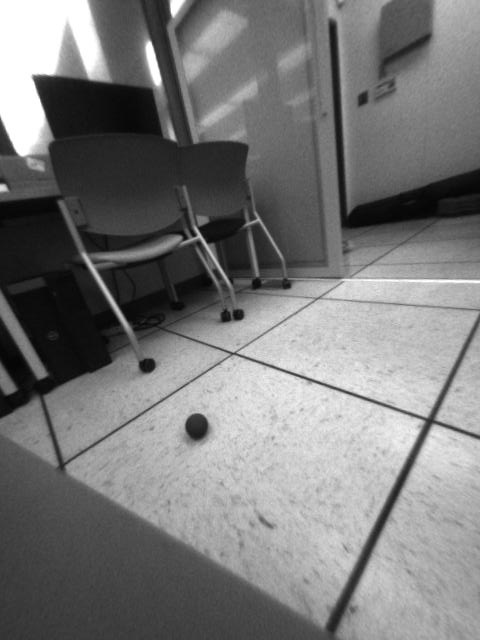dogtoy: (177, 408, 221, 446)
